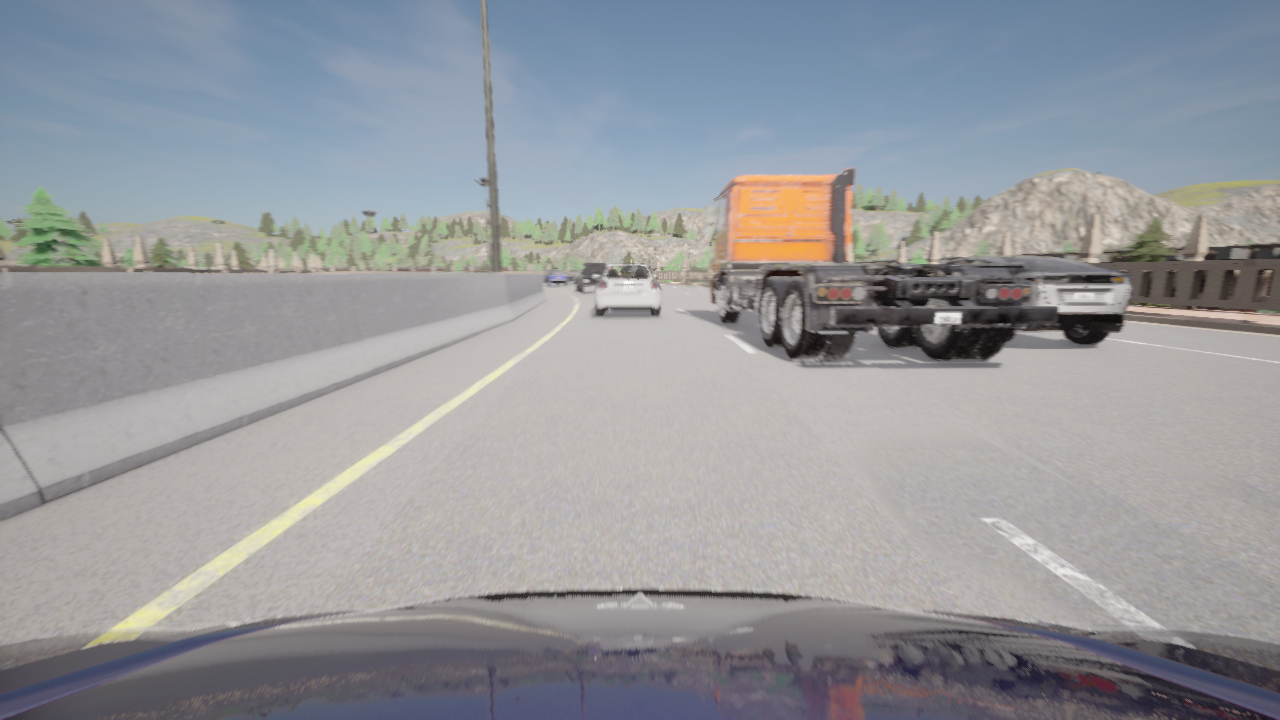cyclist: (0, 588, 1279, 719), (704, 168, 1057, 360), (926, 256, 1131, 344), (593, 264, 661, 317), (575, 262, 605, 292), (543, 270, 566, 286), (566, 272, 579, 284), (648, 265, 652, 273)
pedestrian: (1076, 258, 1079, 261)
